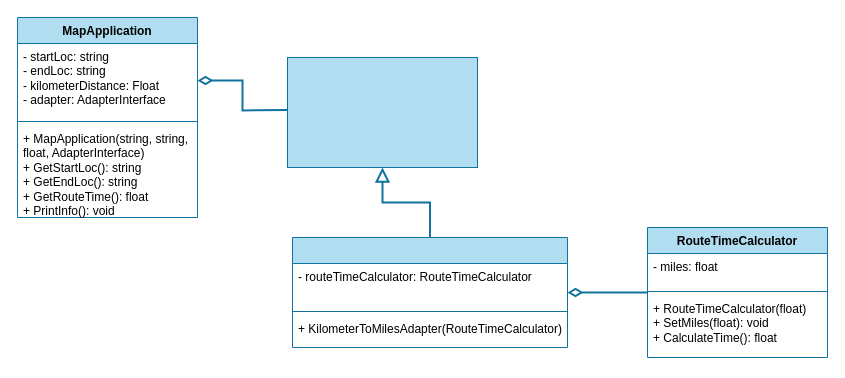
Image size: 845x378. Some labels were removed from this diagram. Here are the shapes that lost their labels. From the top down, the box of each, then its label:
(286, 56, 478, 168): <<Interface>> AdapterInterface + GetTime(Float): Float
(292, 236, 568, 348): KilometerToMilesAdatper
